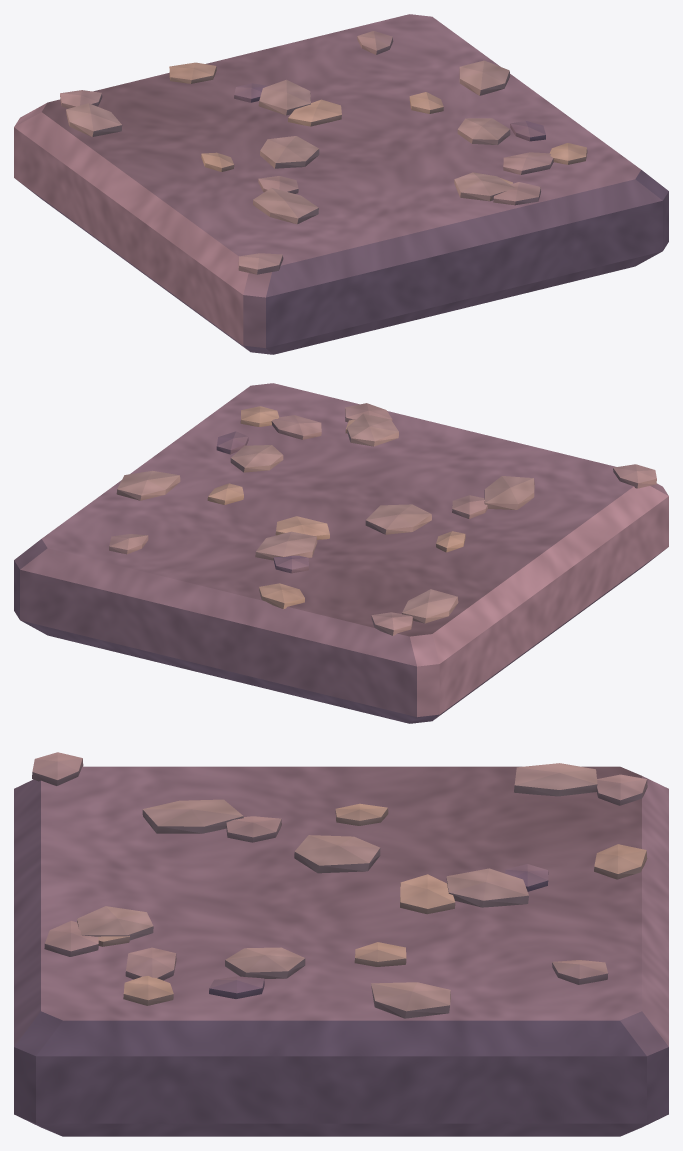
File: mine_floor.glb
3 renders of one model, top to bottom at view 1: azimuth 30°, elevation 25°; view 2: azimuth 150°, elevation 25°; view 3: azimuth 270°, elevation 25°, orthographic. The views are drawn at different scales.
Visible parts, largest first — view 1: Minensohle · polygonales Gestein; view 2: Minensohle · polygonales Gestein; view 3: Minensohle · polygonales Gestein.
Part boxes in pixels (box(x1,y1,x2,y2)): Minensohle · polygonales Gestein: box(14, 14, 668, 354); Minensohle · polygonales Gestein: box(14, 383, 668, 723); Minensohle · polygonales Gestein: box(14, 752, 668, 1136).
Size of the model in its own units: 2.4 by 0.515 by 2.4.
1 material, 1 textured.
